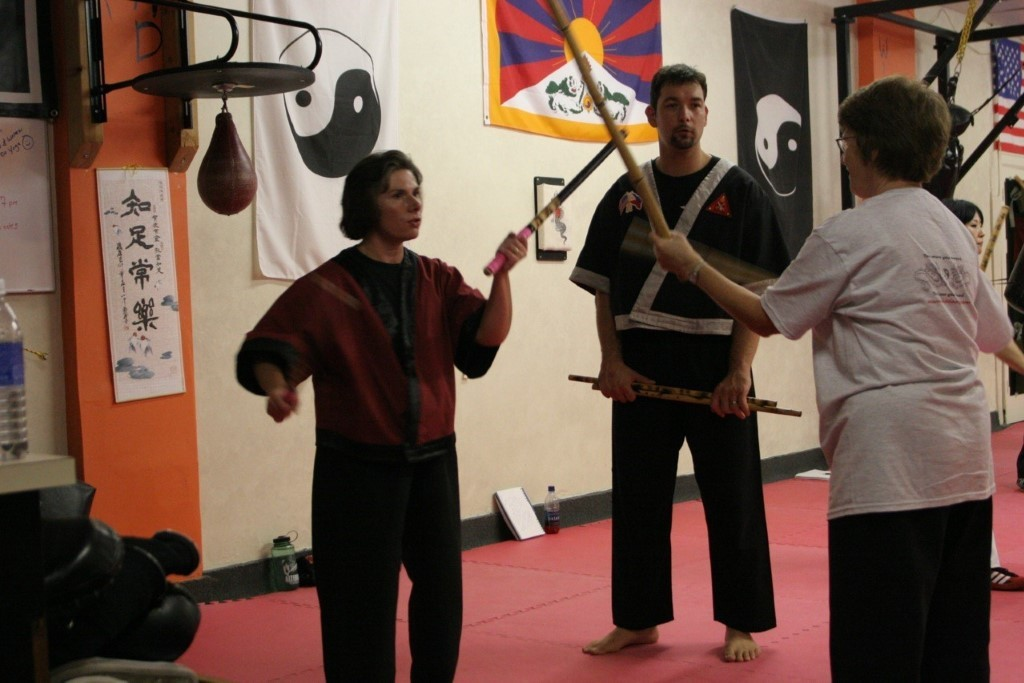baston_e: (540, 4, 675, 234), (495, 131, 620, 275), (573, 375, 773, 409), (598, 383, 797, 417), (979, 211, 1010, 268)
baston_v: (479, 260, 495, 278), (999, 201, 1011, 214), (618, 123, 629, 137), (587, 380, 598, 393), (794, 407, 805, 419), (566, 371, 575, 382), (770, 400, 779, 409)
